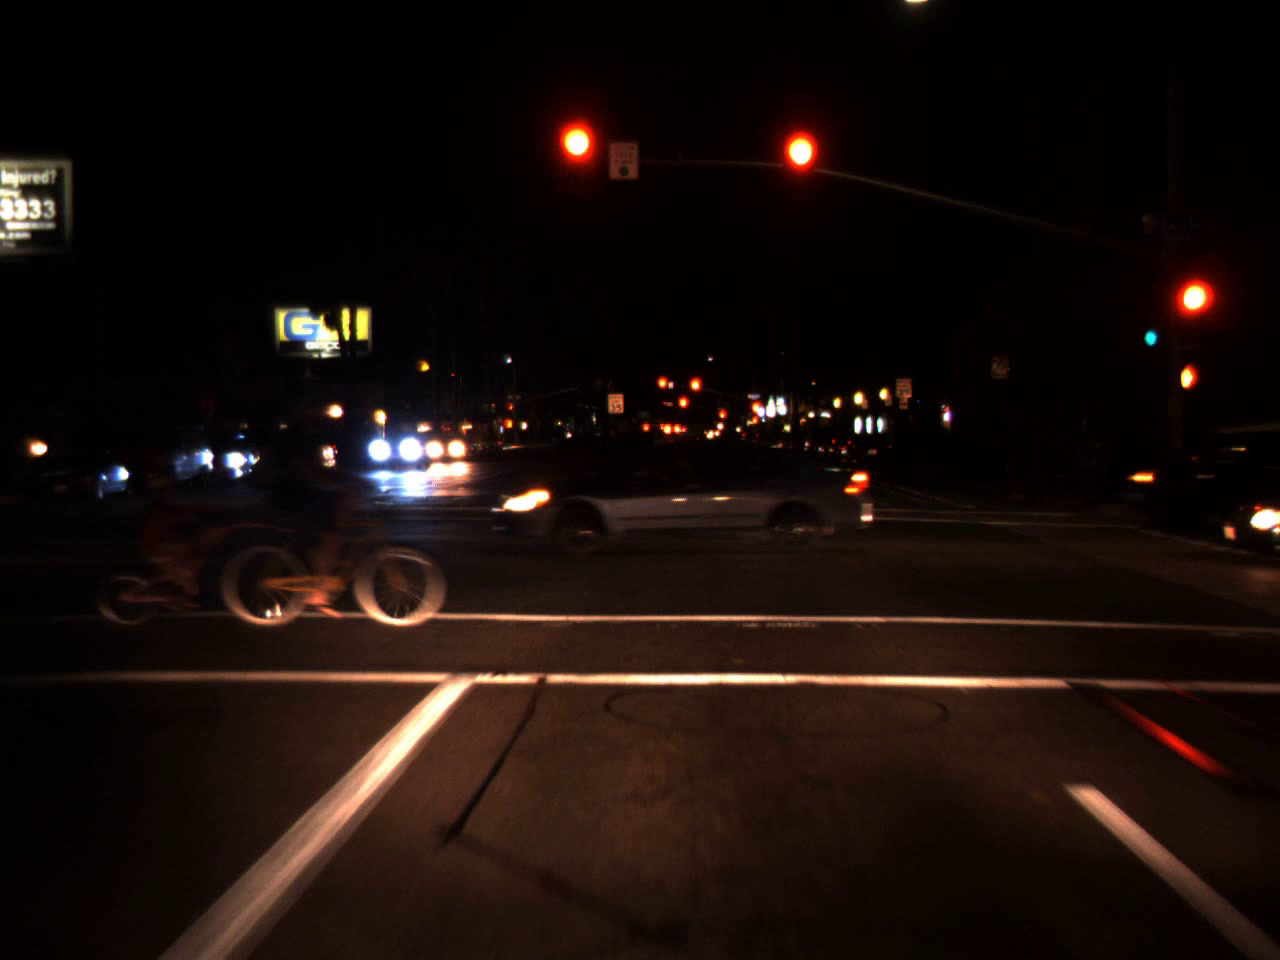stop: (1169, 279, 1212, 351), (780, 129, 819, 207), (559, 123, 595, 198), (688, 376, 703, 405), (747, 400, 763, 427), (676, 394, 689, 423), (656, 376, 668, 400), (718, 409, 725, 425), (508, 402, 514, 418)
